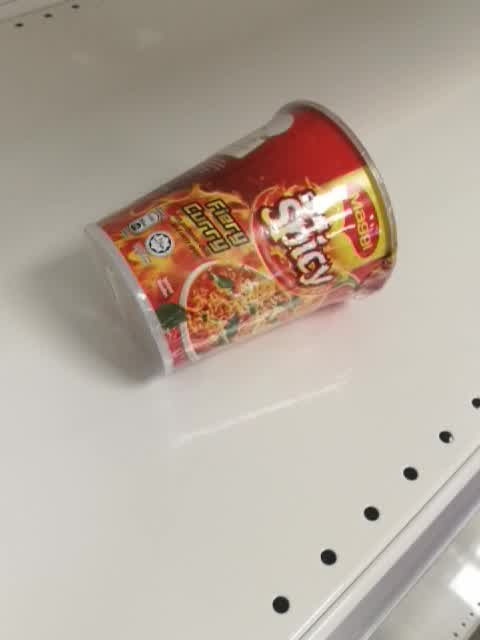maggi: (83, 98, 398, 377)
